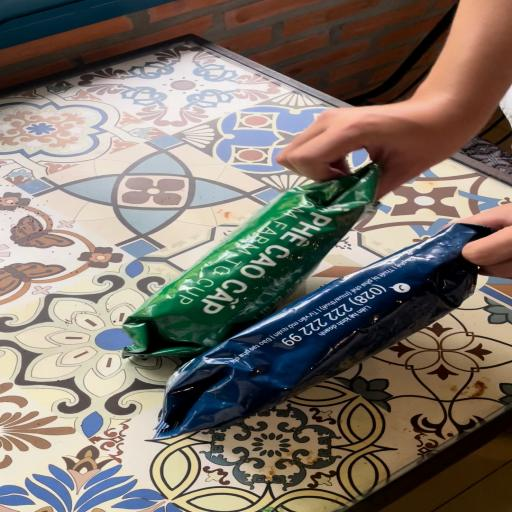cafe_hat: (154, 223, 491, 439)
cafe_xay: (123, 164, 380, 358)
